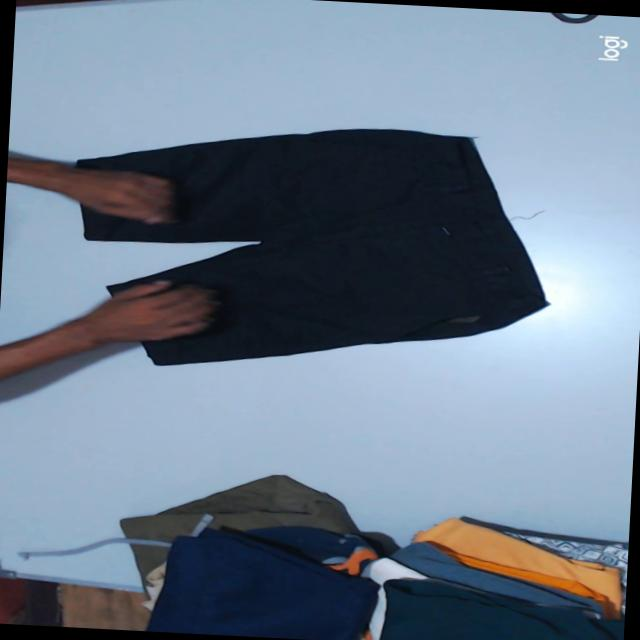new-garment: (77, 129, 546, 364)
